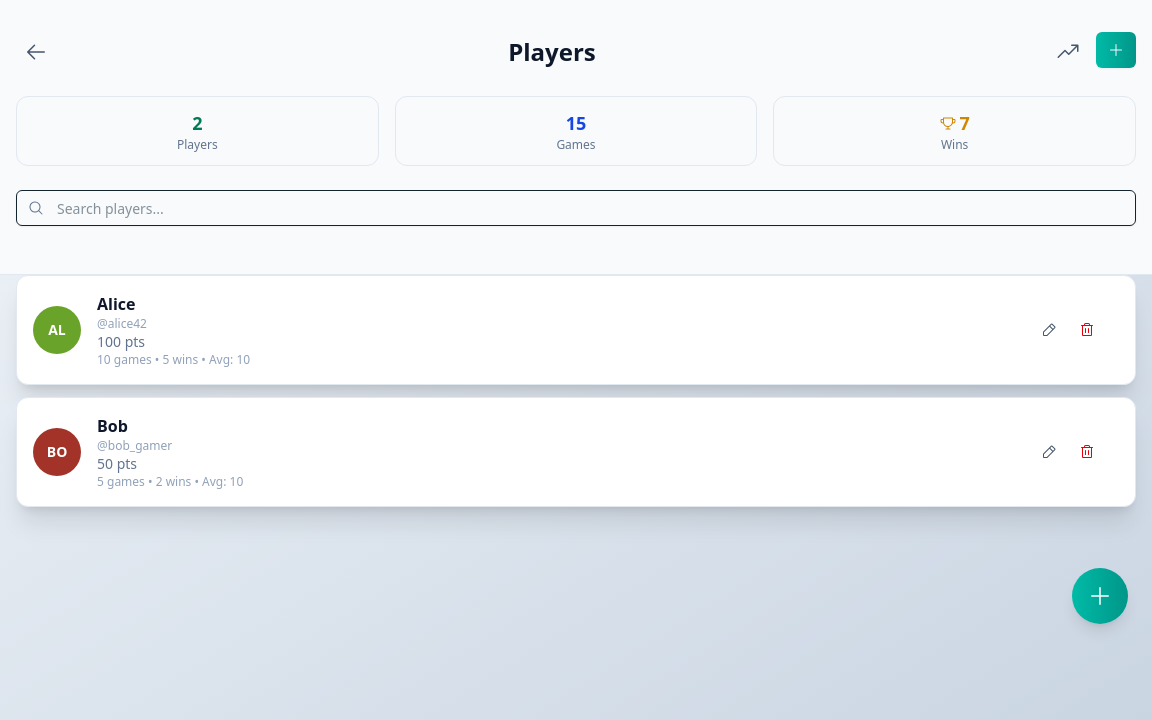
it: PlayersPage — flux CRUD › crée un joueur via le formulaire
Expected: the text "Alice" is shown, [97,293,136,315]
Click the button named "add new player": (1100, 596) [1072,568,1128,624]
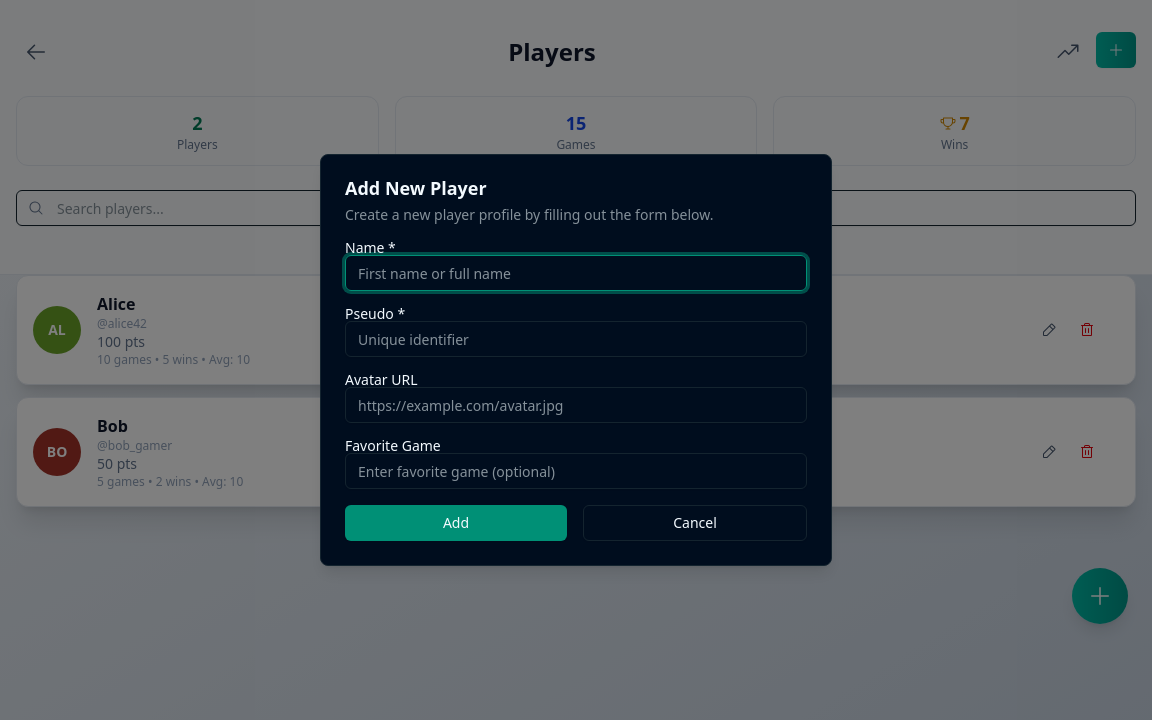
Result: the dialog is shown at [320,154,832,566]
In the field labelled "Name *": (576, 273) [345,255,807,291], type "Charlie"
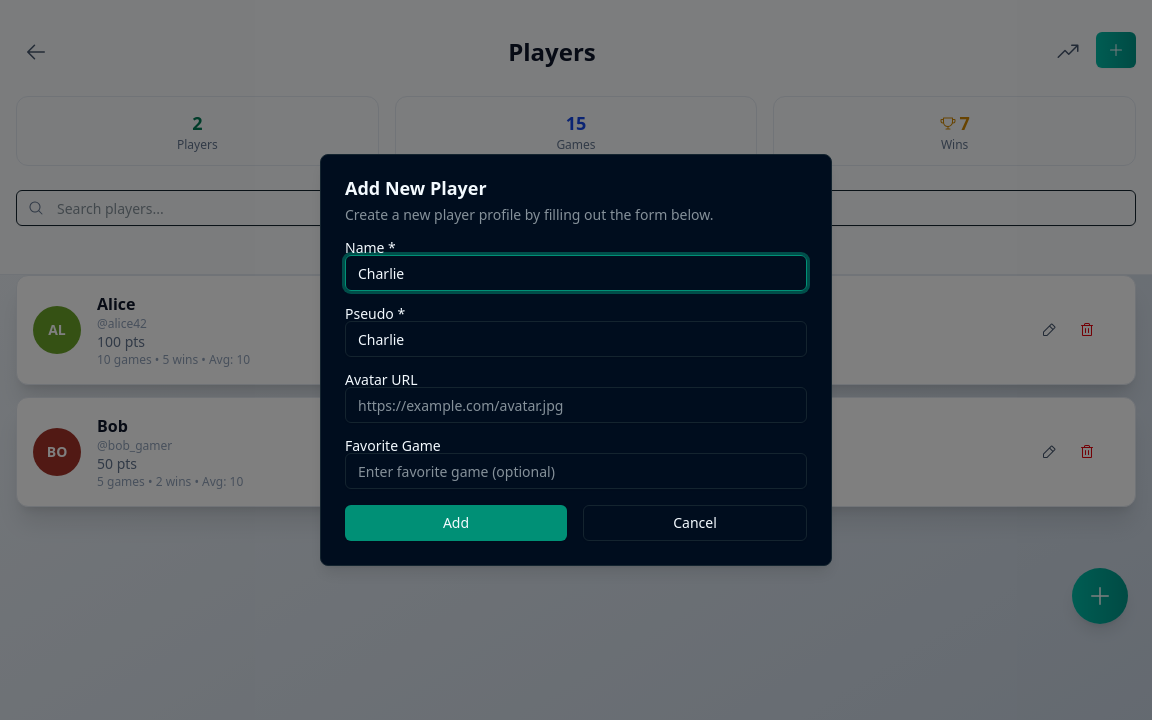
Note: Le champ pseudo est pré-rempli avec la valeur du nom, on le clear puis on tape
Replace the text in the field labelled "Pseudo *" with "charlie99": (576, 339) [345,321,807,357]
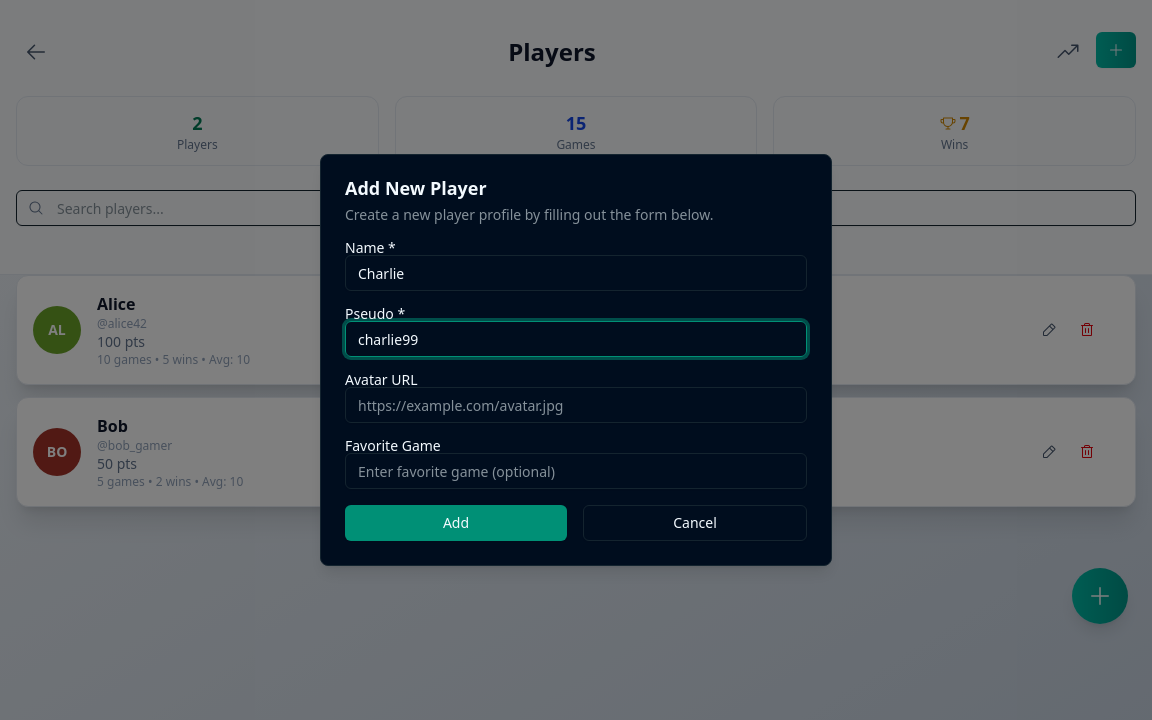
Click the button "Add": (456, 523) [345,505,567,541]
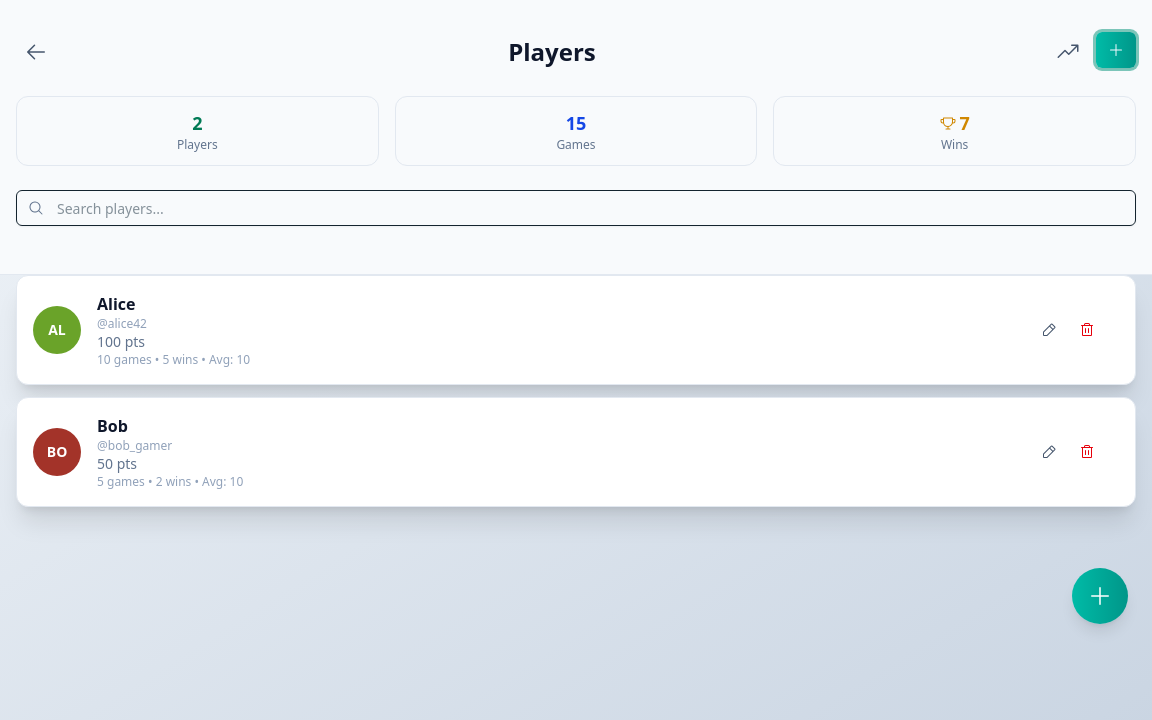
Result: the dialog is gone
